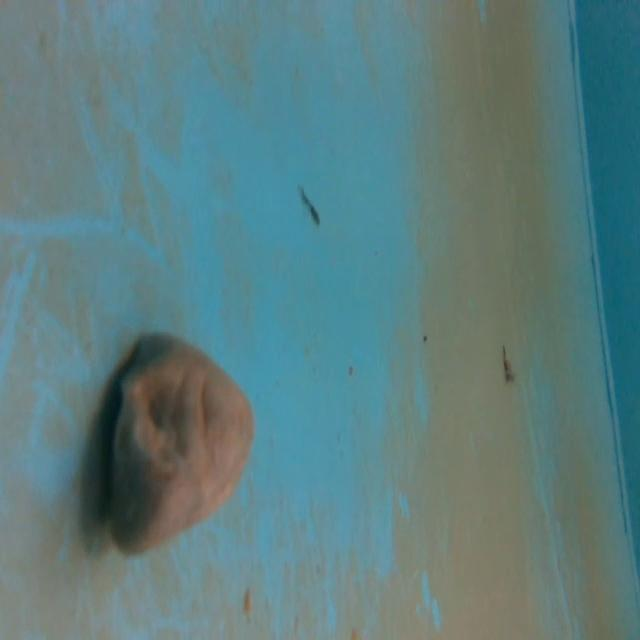rock: (98, 319, 258, 566)
